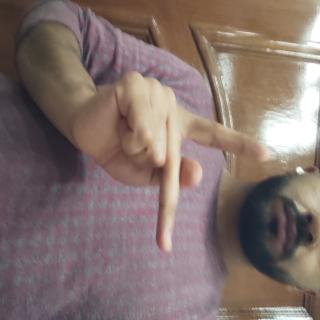DHAA: (39, 61, 198, 320)
